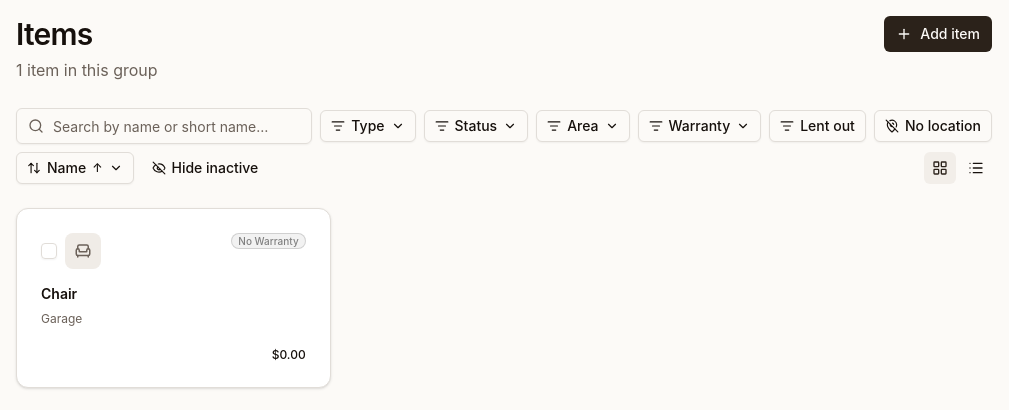
Test case: <CommoditiesListPage /> › toggles a Type filter via the dropdown
Expected: the element with test id "commodity-card" is shown, [16,208,331,388]
Click the button with test id "commodities-filter-type": (368, 126) [320,110,416,142]
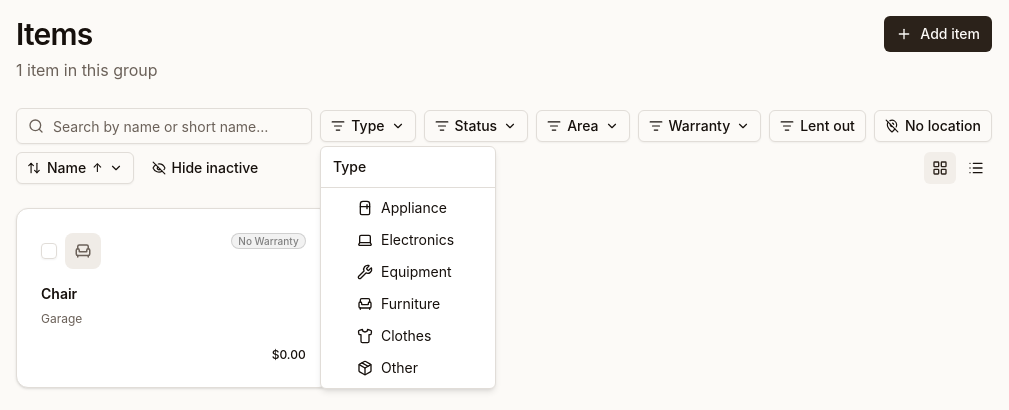
Click the menu item "Furniture": (399, 304) [357,295,440,312]
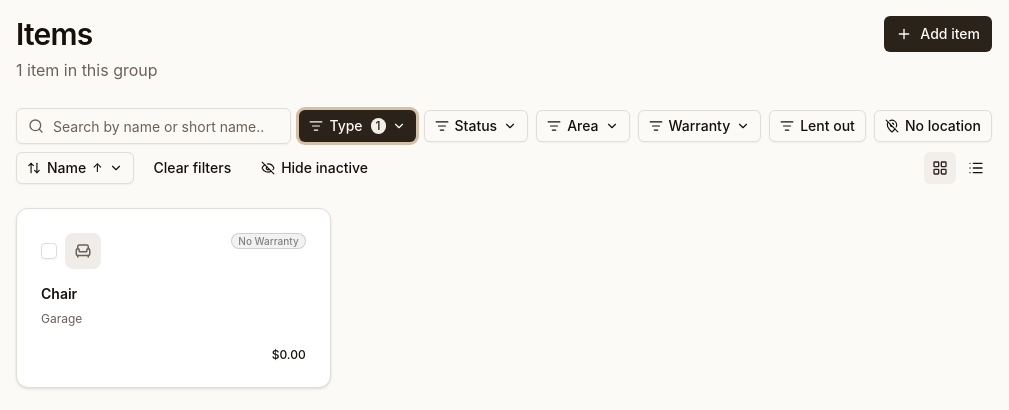
Result: the button with test id "commodities-filter-type" shows "1" at [299,110,416,142]
